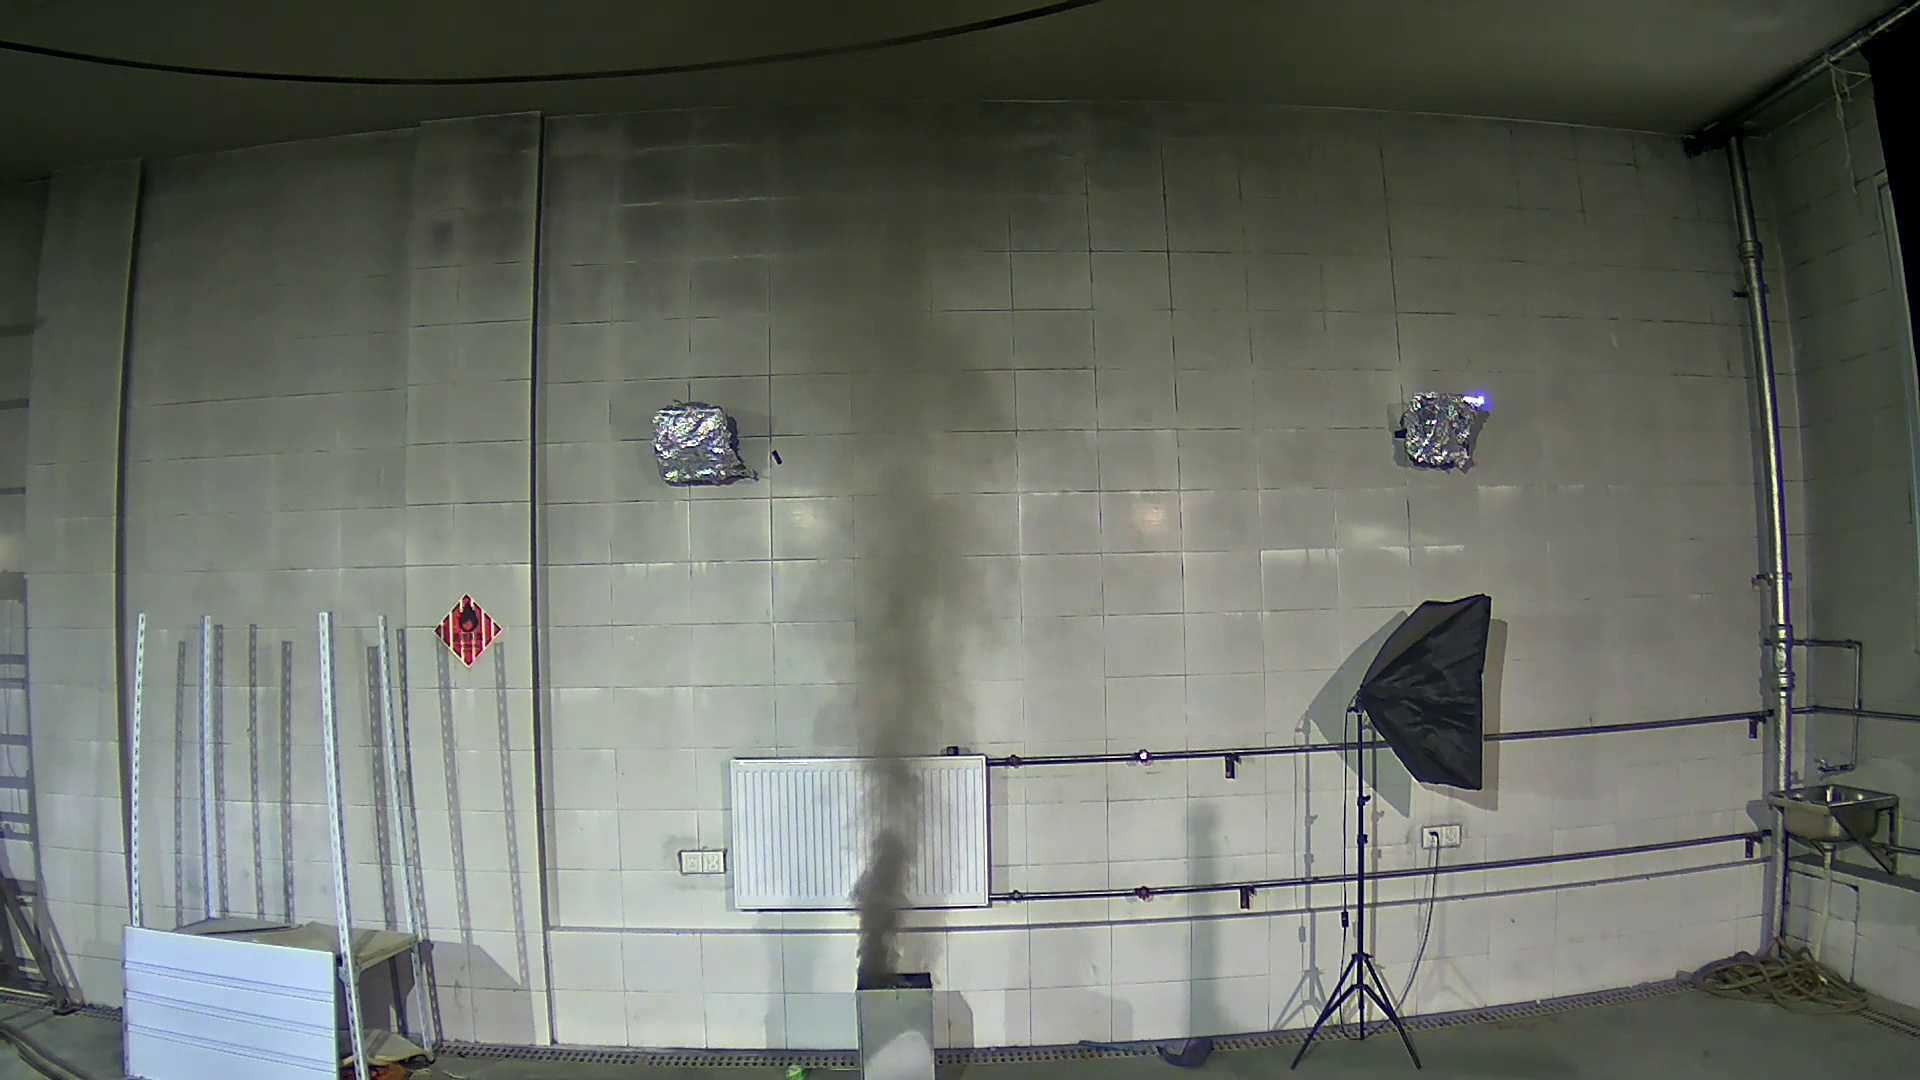smoke: (771, 309, 996, 967)
